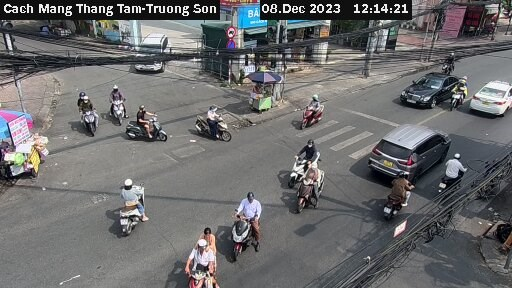car: (369, 123, 453, 177), (400, 70, 457, 108), (134, 32, 176, 74), (471, 78, 512, 115)
motorbike: (100, 179, 156, 233), (173, 239, 225, 288), (213, 201, 264, 250), (377, 168, 418, 219), (436, 159, 482, 203), (120, 109, 170, 145), (289, 88, 334, 125), (190, 104, 233, 139), (293, 173, 331, 212), (71, 101, 105, 137), (284, 146, 320, 179), (101, 92, 130, 122), (447, 77, 470, 107), (437, 51, 463, 73)
